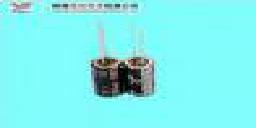Electrolytic-capacitor: (122, 19, 159, 100), (90, 22, 126, 98)
